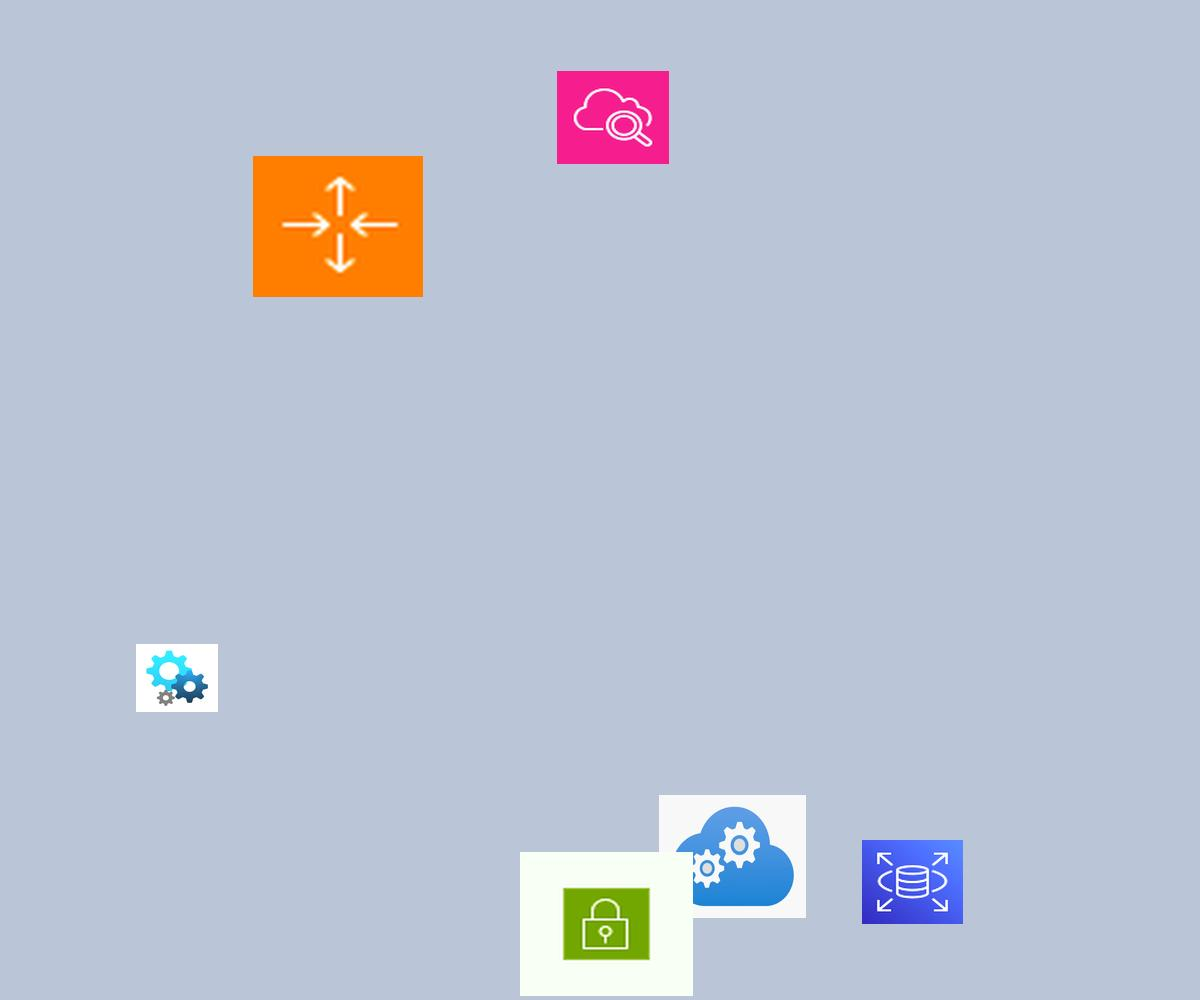AWS-CloudWatch: (557, 71, 669, 164)
AWS-Public-subnet: (520, 852, 693, 996)
AWS-RDS: (862, 840, 963, 924)
AWS-Scaling-group: (253, 156, 423, 297)
Azure_api: (136, 644, 218, 712)
Azure_cloud_services: (659, 795, 806, 918)
